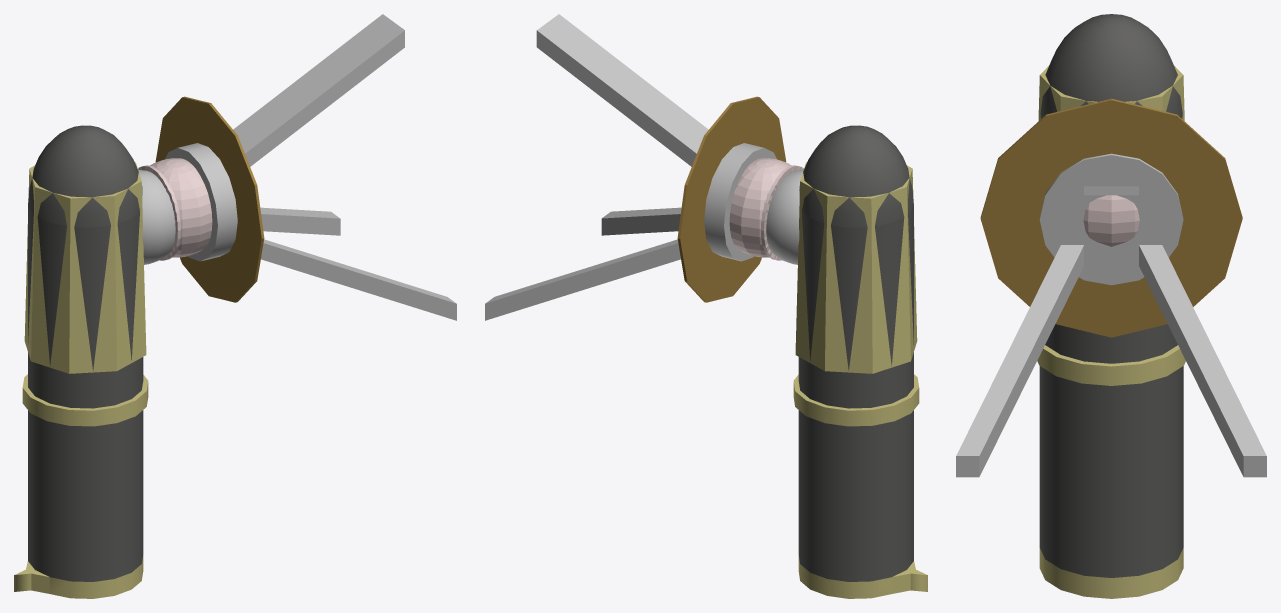
The model's file is SentryGun.fbx.
3 views of the same model, side by side, from view 1: azimuth 30°, elevation 25°; view 2: azimuth 150°, elevation 25°; view 3: azimuth 270°, elevation 25° (orthographic). The views are drawn at different scales.
Visible parts, largest first — view 1: polySurface1, pCylinder2, pCylinder1, pCylinder3, polySurface2, pCylinder4, pSphere7; view 2: polySurface1, pCylinder2, pCylinder1, pCylinder3, polySurface2, pCylinder4, pSphere7; view 3: polySurface1, pCylinder3, pCylinder2, pCylinder4, polySurface2, pCylinder1.
Part boxes in pixels (left/top/right/bottom): polySurface1: left=14, top=125, right=143, bottom=598; pCylinder2: left=165, top=14, right=456, bottom=320; pCylinder1: left=24, top=162, right=146, bottom=373; pCylinder3: left=155, top=96, right=264, bottom=302; polySurface2: left=138, top=158, right=212, bottom=260; pCylinder4: left=22, top=374, right=148, bottom=426; pSphere7: left=138, top=170, right=175, bottom=264; polySurface1: left=798, top=125, right=927, bottom=598; pCylinder2: left=485, top=14, right=776, bottom=320; pCylinder1: left=795, top=162, right=917, bottom=373; pCylinder3: left=677, top=96, right=786, bottom=302; polySurface2: left=729, top=158, right=803, bottom=260; pCylinder4: left=793, top=374, right=919, bottom=426; pSphere7: left=766, top=170, right=803, bottom=264; polySurface1: left=1039, top=14, right=1183, bottom=598; pCylinder3: left=980, top=98, right=1242, bottom=337; pCylinder2: left=956, top=153, right=1266, bottom=477; pCylinder4: left=1037, top=345, right=1185, bottom=385; polySurface2: left=1083, top=195, right=1139, bottom=246; pCylinder1: left=1038, top=65, right=1184, bottom=120.
Bounding box in the file's own units: 7.54 × 9.05 × 4.32.
